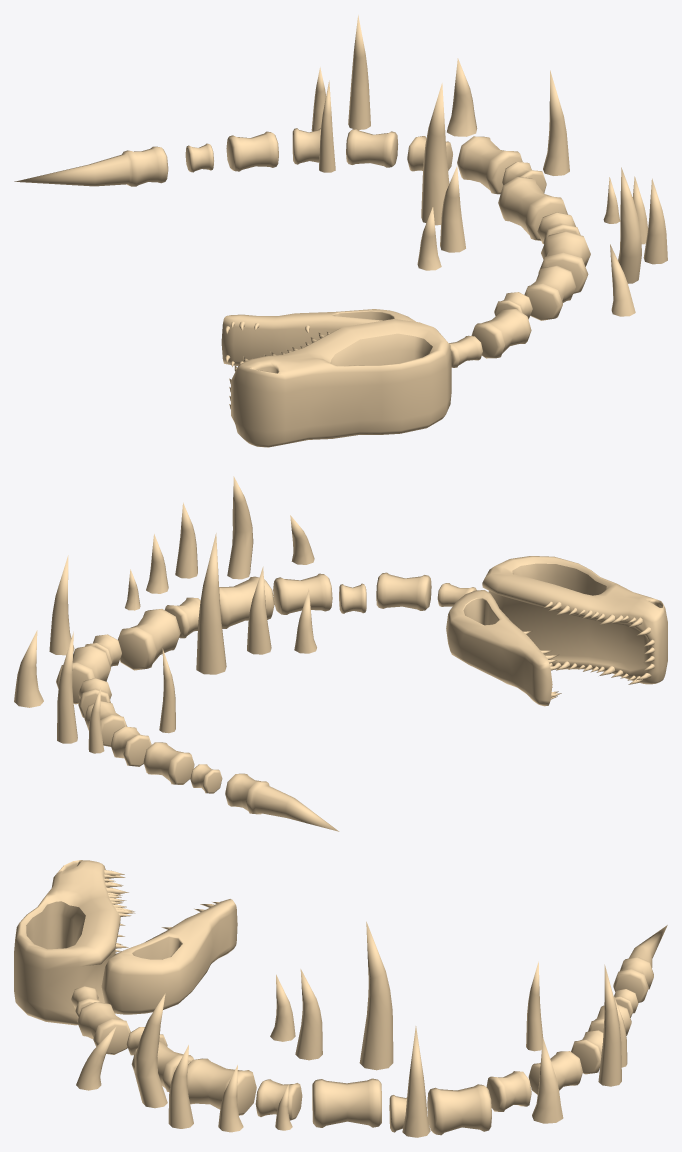
The model's file is Fossil_Dinosaur_Bones.fbx.
3 renders of one model, top to bottom at view 1: azimuth 30°, elevation 25°; view 2: azimuth 150°, elevation 25°; view 3: azimuth 270°, elevation 25°, orthographic. The views are drawn at different scales.
Visible parts, largest first — view 1: pCylinder57, polySurface22, polySurface27, polySurface21, polySurface29, polySurface24, polySurface28, polySurface23, polySurface8, polySurface32, polySurface43, polySurface33 (+13 smaller); view 2: pCylinder57, polySurface27, polySurface21, polySurface22, polySurface24, polySurface28, polySurface8, polySurface23, polySurface32, polySurface43, polySurface29, polySurface46 (+16 smaller); view 3: pCylinder57, polySurface27, polySurface21, polySurface29, polySurface23, polySurface8, polySurface43, polySurface22, polySurface28, polySurface46, polySurface4, polySurface45 (+15 smaller).
Part boxes in pixels (<box>): pCylinder57: <box>221,309,451,447</box>; polySurface22: <box>14,146,168,186</box>; polySurface27: <box>421,83,449,225</box>; polySurface21: <box>498,177,567,240</box>; polySurface29: <box>457,136,522,194</box>; polySurface24: <box>524,265,576,320</box>; polySurface28: <box>471,309,531,358</box>; polySurface23: <box>538,231,590,293</box>; polySurface8: <box>618,167,641,283</box>; polySurface32: <box>226,131,278,171</box>; polySurface43: <box>348,15,370,129</box>; polySurface33: <box>346,128,398,167</box>; pCylinder57: <box>446,556,667,706</box>; polySurface27: <box>196,533,226,674</box>; polySurface21: <box>118,609,180,670</box>; polySurface22: <box>225,773,339,831</box>; polySurface24: <box>273,573,332,614</box>; polySurface28: <box>376,572,431,610</box>; polySurface8: <box>227,476,253,579</box>; polySurface23: <box>219,576,274,628</box>; polySurface32: <box>143,742,194,784</box>; polySurface43: <box>57,631,77,743</box>; polySurface29: <box>56,645,110,704</box>; polySurface46: <box>49,555,74,655</box>; pCylinder57: <box>14,860,237,1025</box>; polySurface27: <box>359,921,393,1070</box>; polySurface21: <box>312,1078,381,1127</box>; polySurface29: <box>427,1084,491,1135</box>; polySurface23: <box>187,1058,256,1115</box>; polySurface8: <box>134,993,167,1108</box>; polySurface43: <box>598,964,621,1086</box>; polySurface22: <box>613,925,667,1002</box>; polySurface28: <box>77,1002,130,1054</box>; polySurface46: <box>402,1026,430,1137</box>; polySurface4: <box>295,969,322,1060</box>; polySurface45: <box>532,1038,563,1123</box>.
Bounding box in the file's own units: 3056 × 1088 × 3483.
